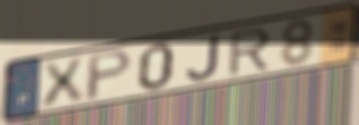0: (137, 41, 178, 92)
8: (279, 17, 317, 68)
J: (184, 32, 222, 82)
P: (83, 48, 135, 104)
R: (226, 25, 273, 78)
X: (39, 55, 87, 110)
